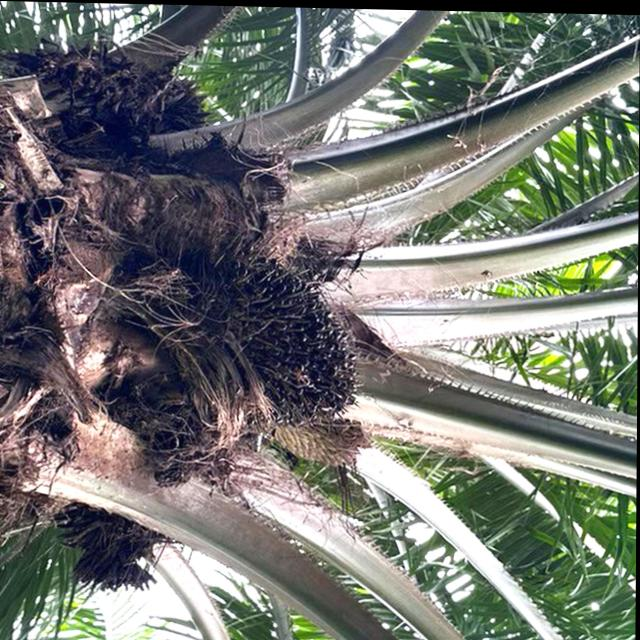unripe: (204, 240, 367, 434)
